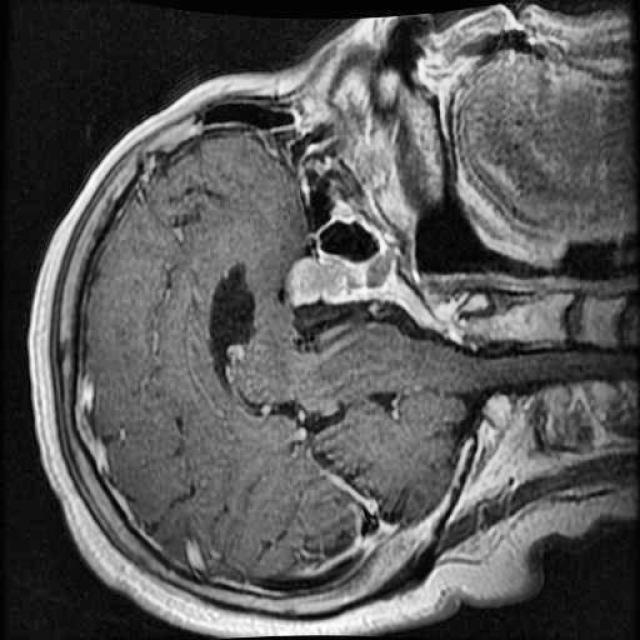Tumor: (285, 245, 376, 309)
